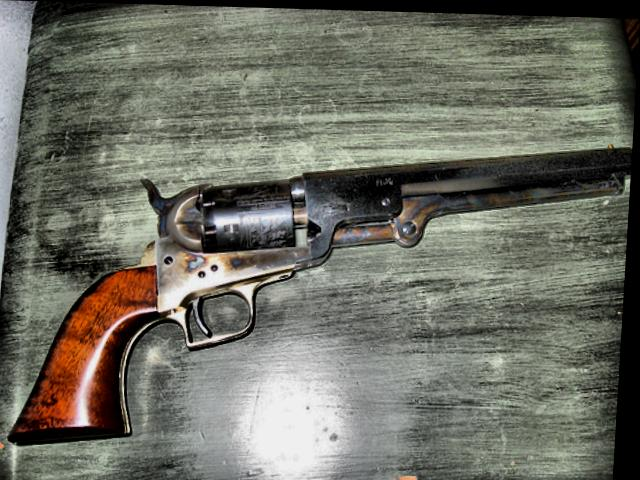pistol: (11, 123, 630, 459)
